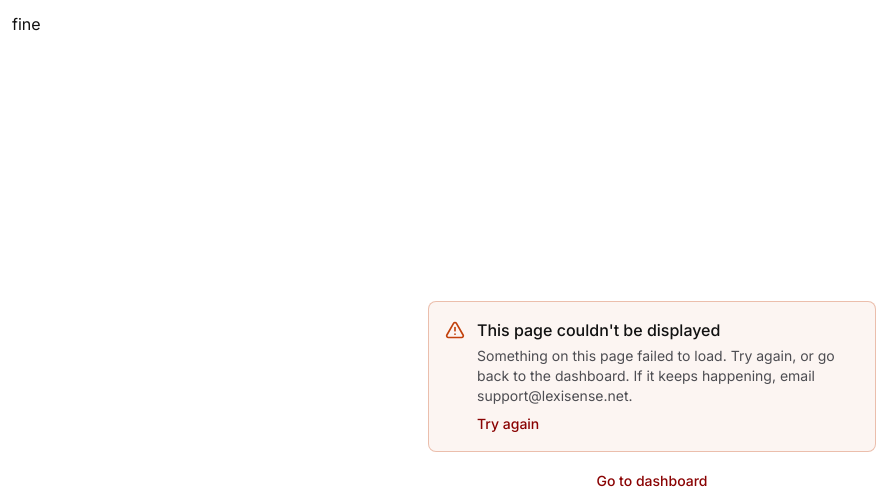
Test: route boundary contains a crashing page and recovers on navigation
This screenshot has width=893, height=504.
Click the link with test id "nav-fine" at (26, 24), box [12, 14, 41, 34]
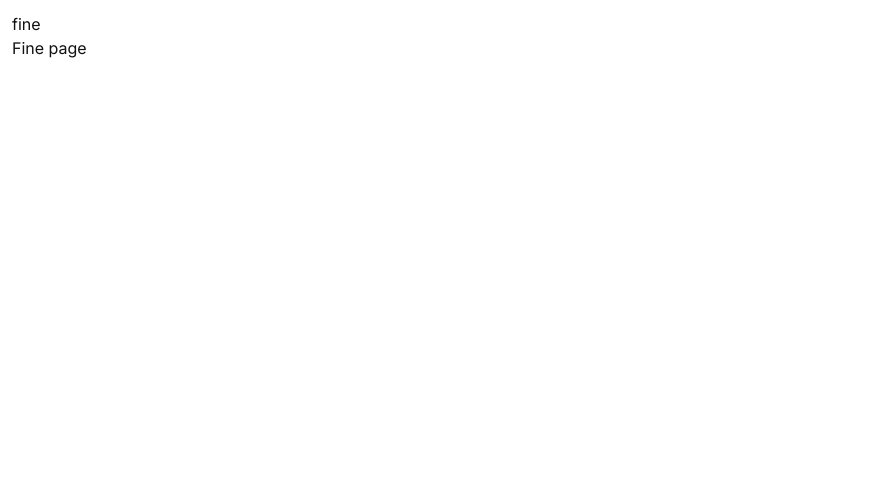
Check: the text "Fine page" is shown, box [12, 38, 87, 58]
